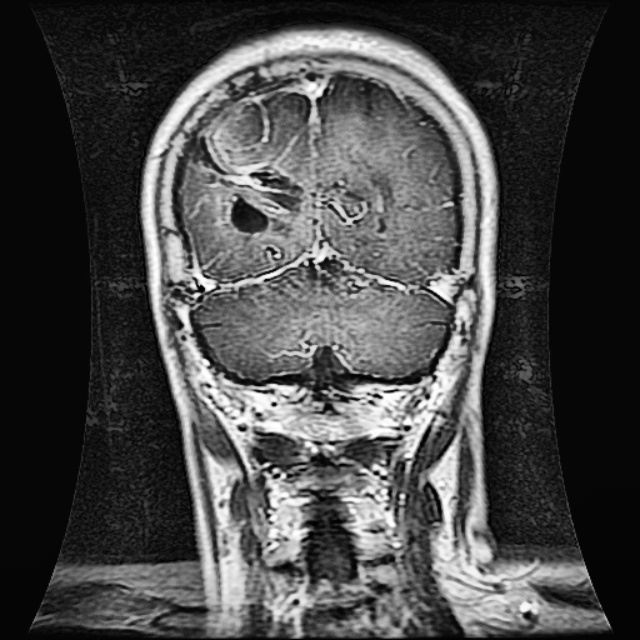Meningioma: (193, 102, 304, 234)
